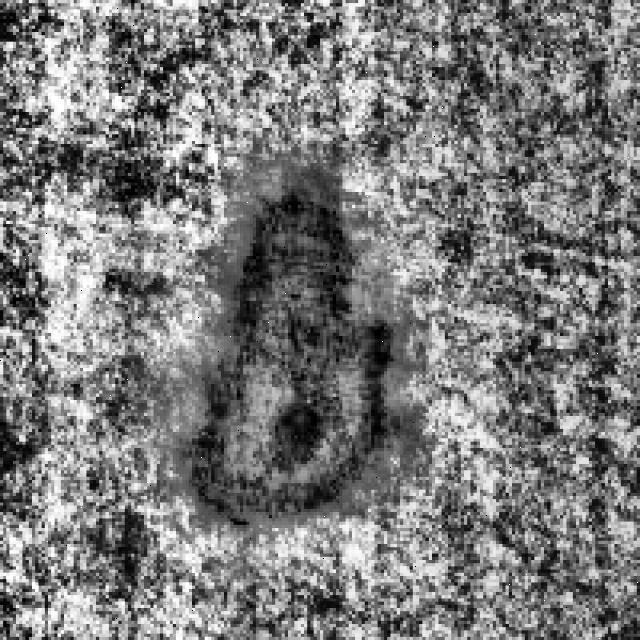Scratches: (185, 160, 428, 525)
